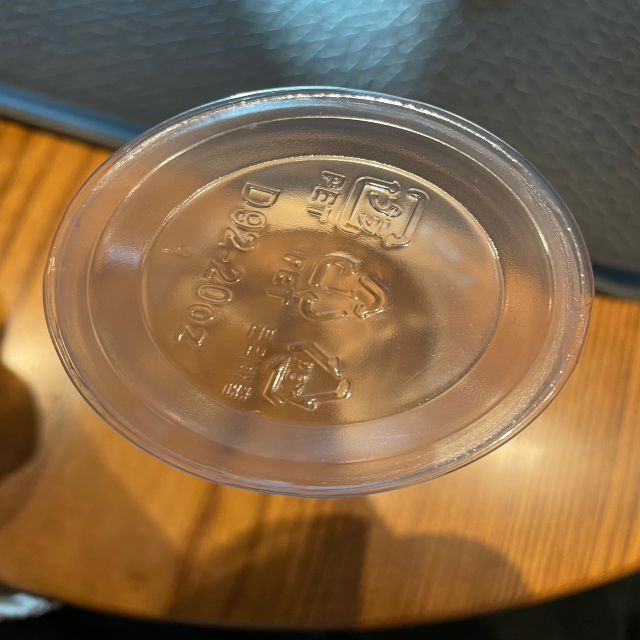pet: (219, 322, 362, 414), (305, 161, 429, 250), (263, 245, 397, 327)
